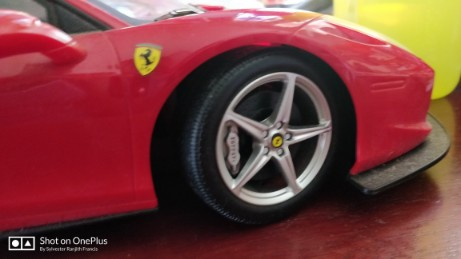unaligned_wheel: (170, 48, 341, 227)
